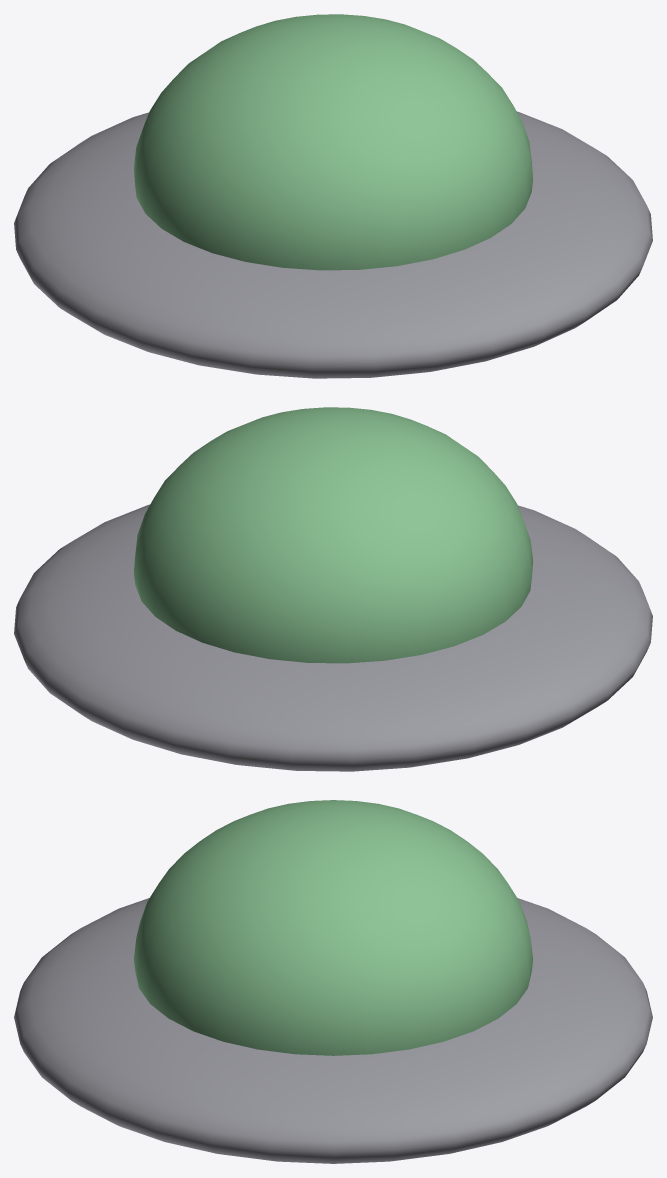
Rendered from ufo.glb.
3 views of the same model, one above another, from view 1: azimuth 30°, elevation 25°; view 2: azimuth 150°, elevation 25°; view 3: azimuth 270°, elevation 25° (orthographic).
Parts seen in each view (by area): view 1: Ufo; view 2: Ufo; view 3: Ufo.
Part boxes in pixels (box(x1,y1,x2,y2)): Ufo: box(14, 14, 652, 378); Ufo: box(14, 407, 652, 771); Ufo: box(14, 800, 652, 1163).
Bounding box in the file's own units: 8 × 3.75 × 8.
